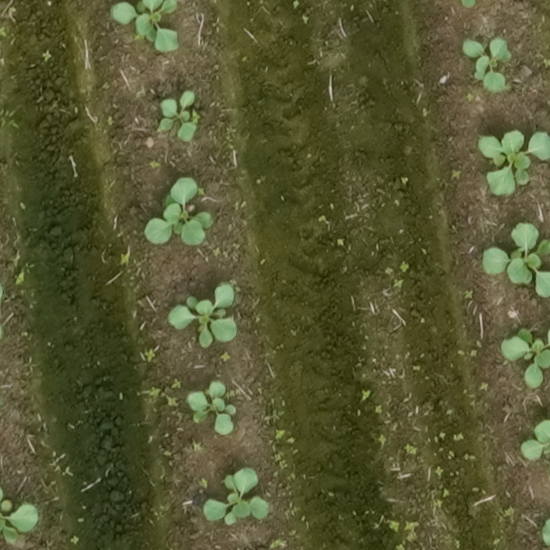Cabbage: (481, 223, 550, 298), (144, 177, 214, 245), (478, 130, 550, 196), (168, 281, 237, 348), (204, 468, 269, 524), (112, 0, 179, 53), (502, 329, 550, 388), (463, 38, 511, 92), (188, 383, 236, 435), (0, 488, 38, 540), (160, 91, 196, 141), (522, 420, 550, 462)
